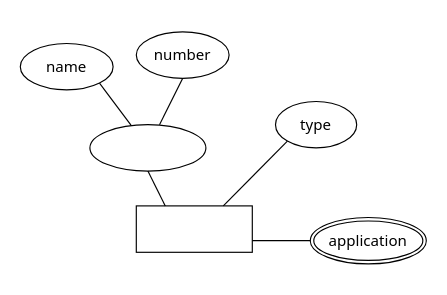
Some shapes in this 447 by 295 pixel diagram are drawn without their labels. The centre of each missing label's shape, as x and y in pixels:
designation: the point at 147,147
model: the point at 193,228
